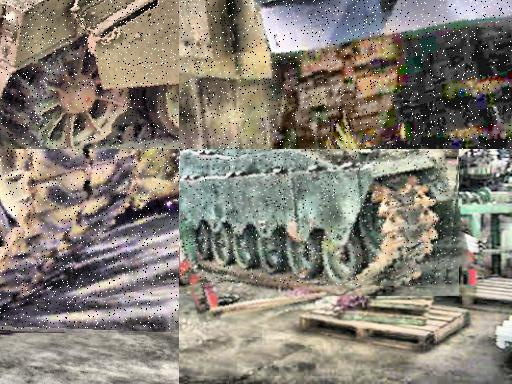tanks: (180, 1, 512, 150), (180, 150, 456, 286), (1, 150, 180, 316), (1, 1, 180, 150)
